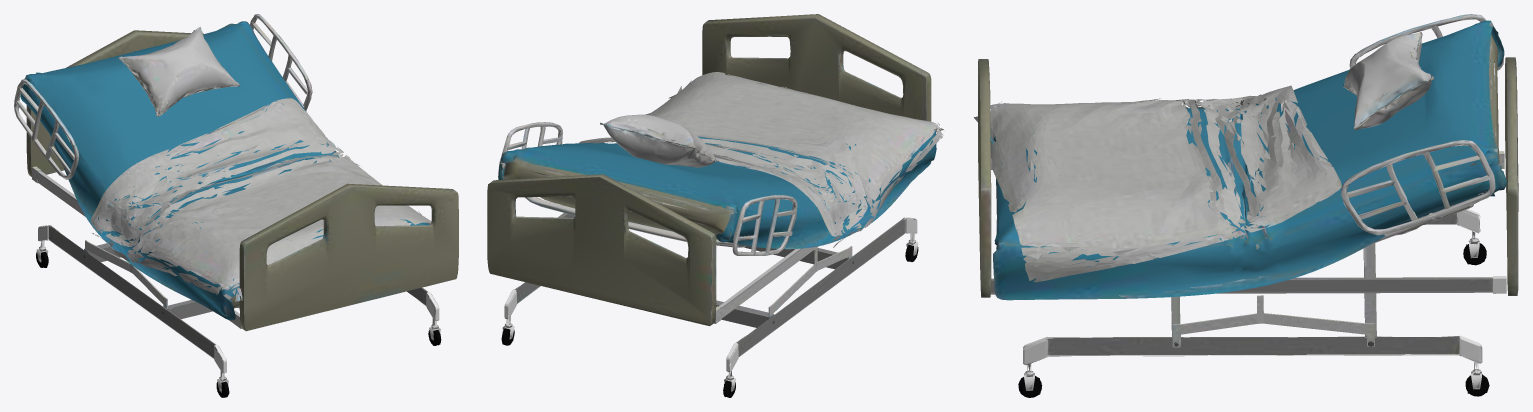
The model's file is bed-17.glb.
The picture shows the model from 3 angles, left to right: view 1: azimuth 30°, elevation 25°; view 2: azimuth 150°, elevation 25°; view 3: azimuth 270°, elevation 25°; orthographic projection. The views are drawn at different scales.
Visible parts, largest first — view 1: NurbsCurve.005; view 2: NurbsCurve.005; view 3: NurbsCurve.005.
Part boxes in pixels (x1=…): NurbsCurve.005: x1=14, y1=14, x2=458, y2=397; NurbsCurve.005: x1=487, y1=14, x2=943, y2=397; NurbsCurve.005: x1=974, y1=14, x2=1518, y2=397.
Bounding box in the file's own units: 6.87 × 5.71 × 10.16.
Materials: 10 (6 with a texture image).
